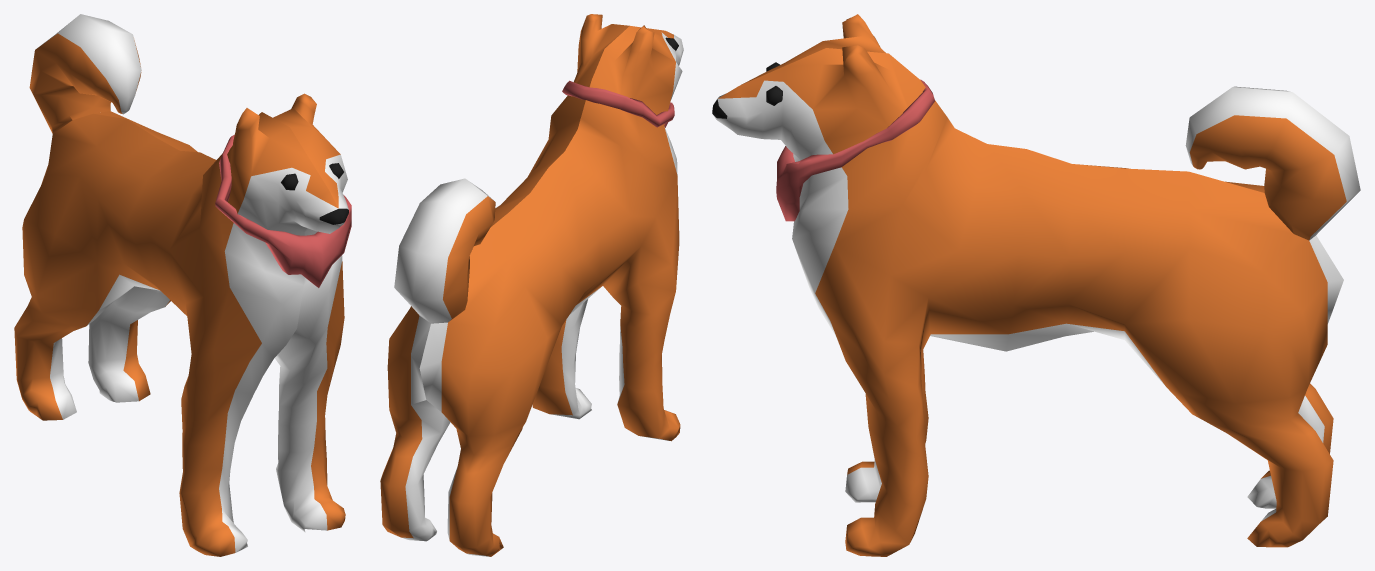
File: bKiASi6XMsR.glb
3 views of the same model, side by side, from view 1: azimuth 30°, elevation 25°; view 2: azimuth 150°, elevation 25°; view 3: azimuth 270°, elevation 25° (orthographic). The views are drawn at different scales.
Parts seen in each view (by area): view 1: Null.1; view 2: Null.1; view 3: Null.1.
Boxes of the visible parts, left/top/right/bottom form: Null.1: left=14, top=14, right=351, bottom=556; Null.1: left=380, top=14, right=683, bottom=556; Null.1: left=712, top=14, right=1360, bottom=556.
Bounding box in the file's own units: 0.3657 × 1 × 1.2.
